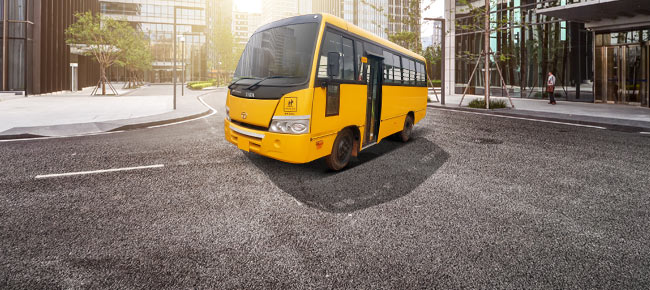minibus: (223, 11, 429, 171)
